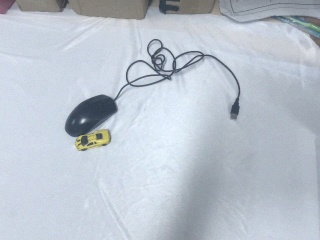box: (66, 1, 155, 23), (158, 1, 218, 16), (13, 1, 69, 14)
mouse: (65, 93, 118, 137)
toy_car: (75, 129, 111, 151)
